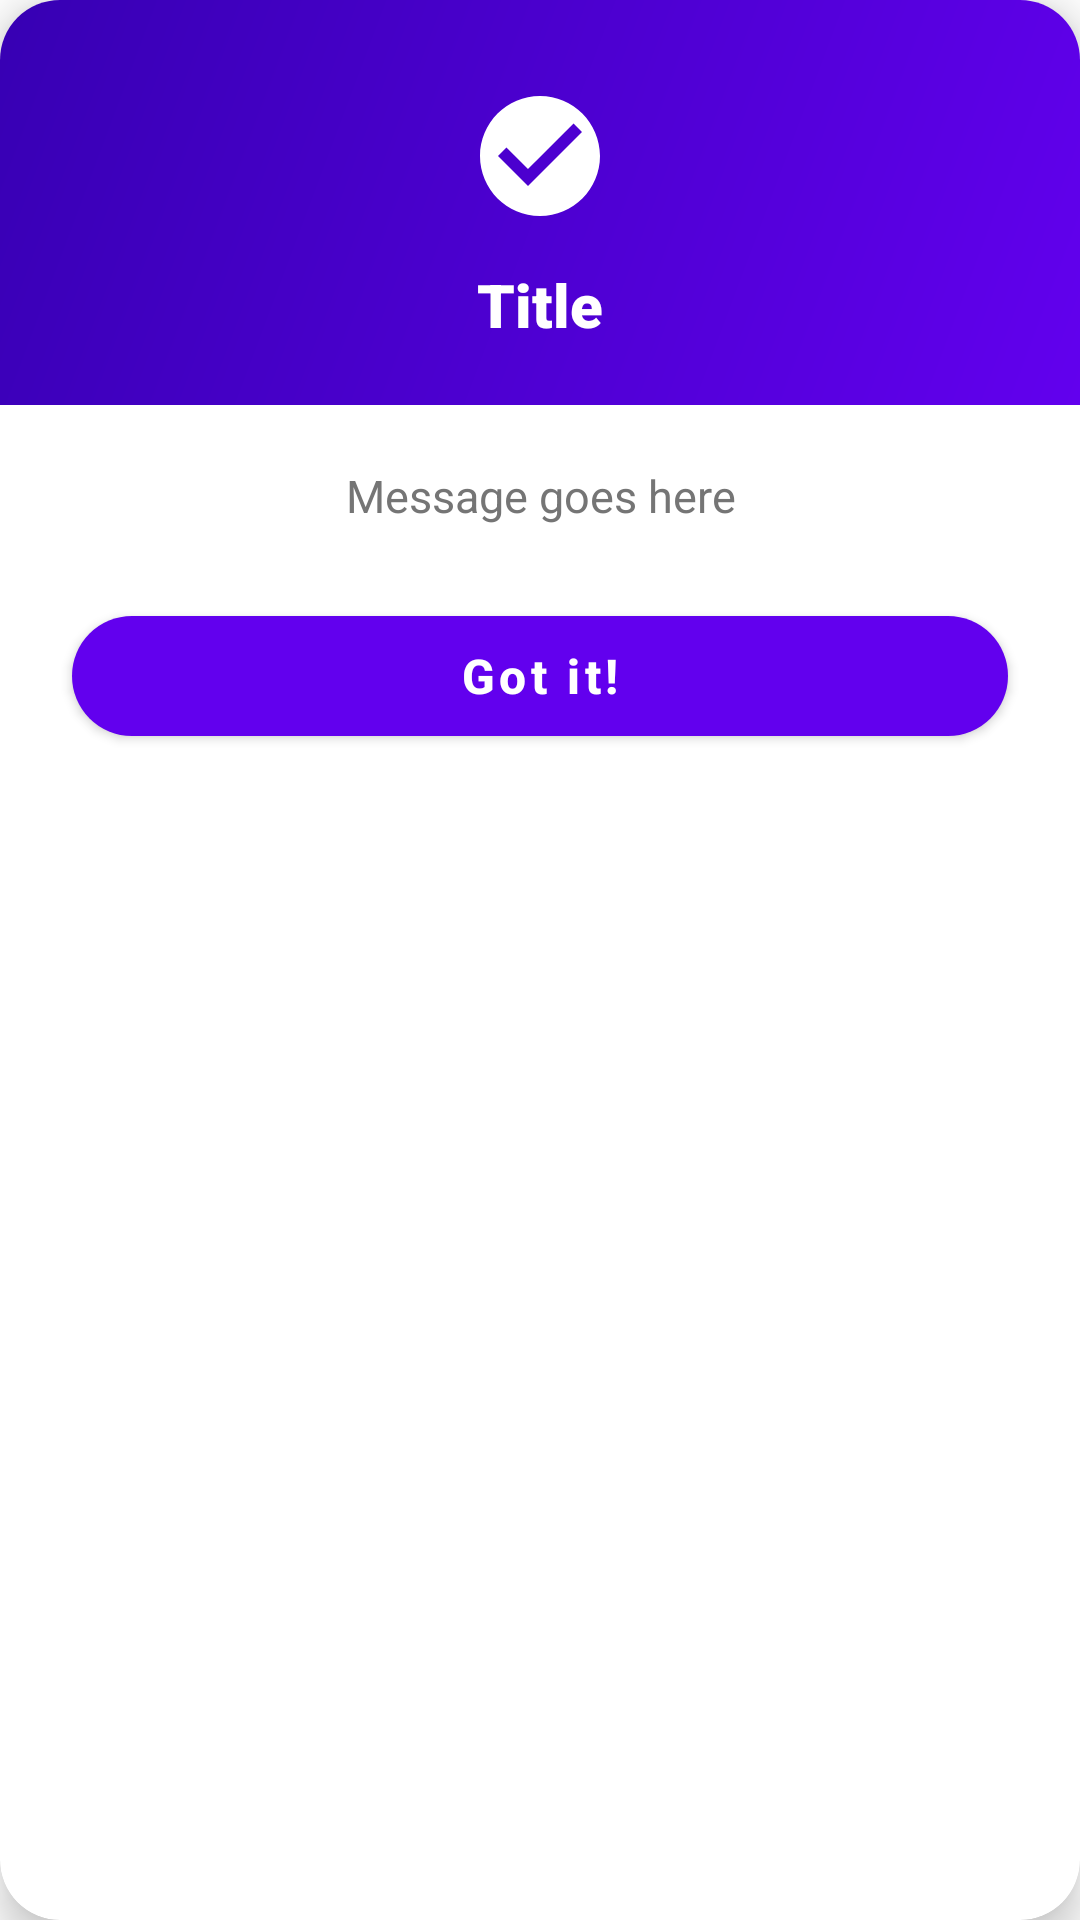

Named icons in this screenshot (1080px x 1920px) and their centers, (x,y):
check circle: (540,156)
